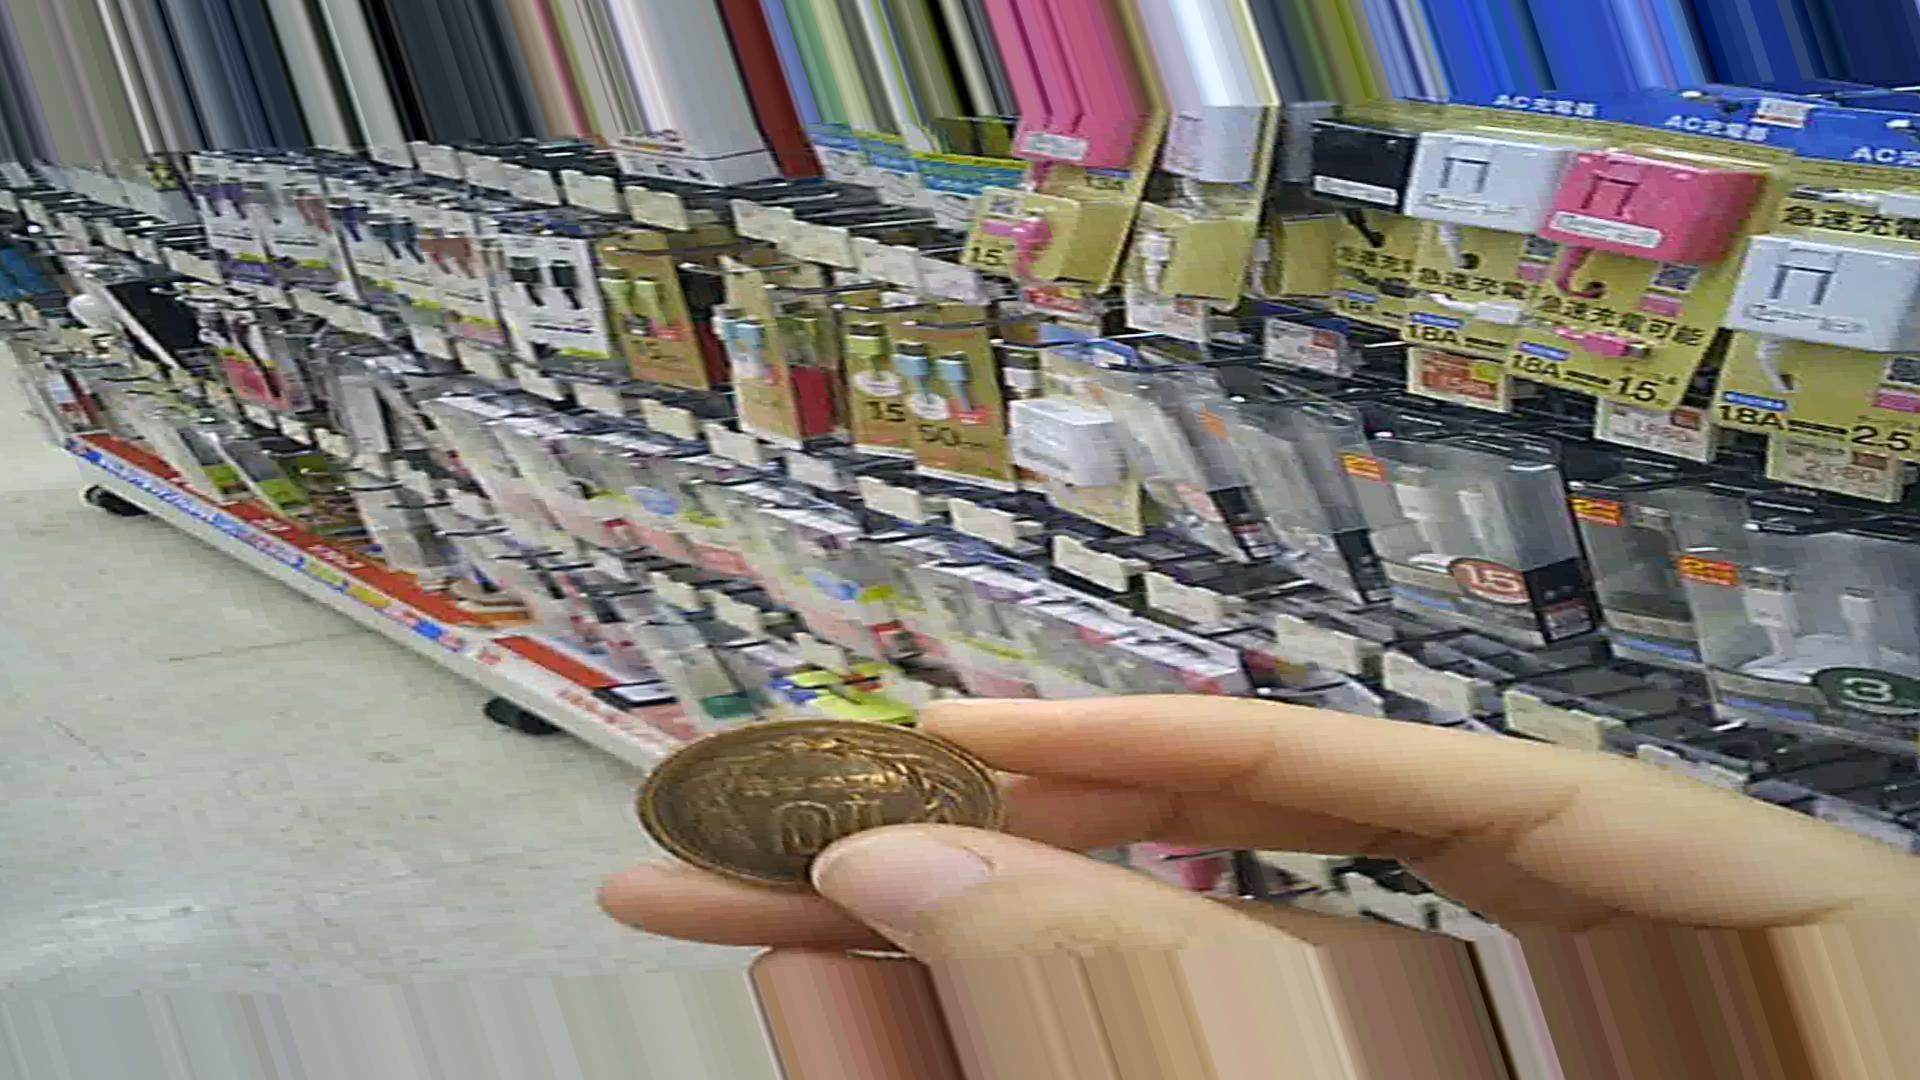10 Yen: (633, 707, 1006, 924)
